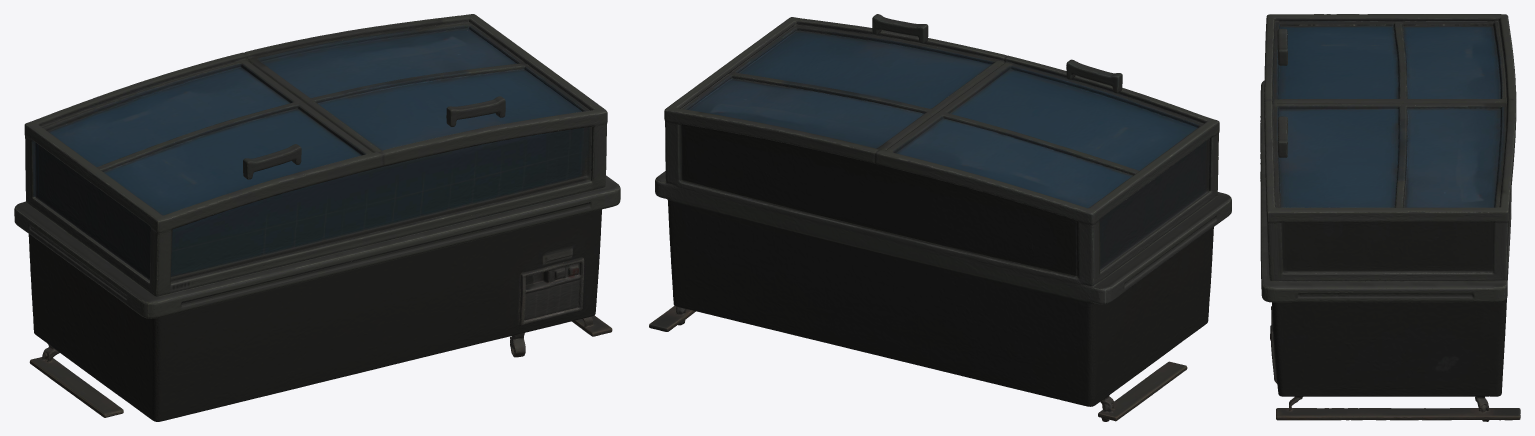
The model's file is 1.9mTopFreezer_2.glb.
The picture shows the model from 3 angles, left to right: view 1: azimuth 30°, elevation 25°; view 2: azimuth 150°, elevation 25°; view 3: azimuth 270°, elevation 25°; orthographic projection. The views are drawn at different scales.
Parts seen in each view (by area): view 1: Mesh_0; view 2: Mesh_0; view 3: Mesh_0.
Part boxes in pixels (x1,y1,x2,y2): Mesh_0: (14, 14, 620, 421); Mesh_0: (649, 14, 1231, 421); Mesh_0: (1260, 14, 1520, 421).
Bounding box in the file's own units: 1.87 × 0.9946 × 0.9757.
1 material, 1 textured.
